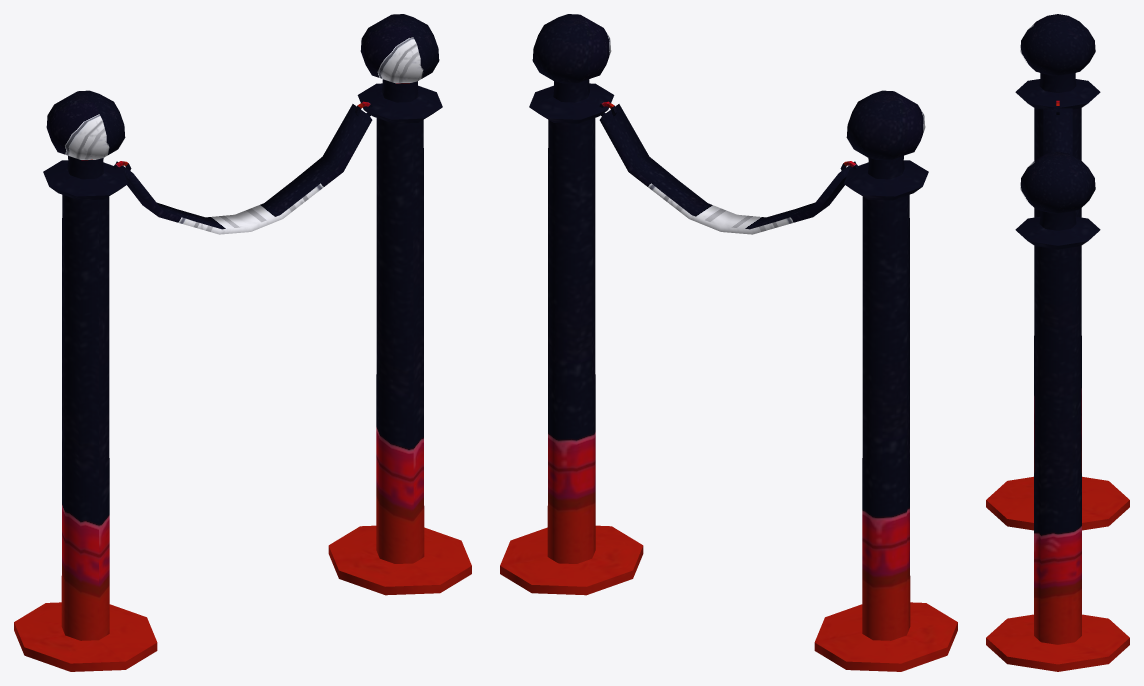
File: Fita.fbx
3 renders of one model, left to right at view 1: azimuth 30°, elevation 25°; view 2: azimuth 150°, elevation 25°; view 3: azimuth 270°, elevation 25°, orthographic. The views are drawn at different scales.
Visible parts, largest first — view 1: FitaCinema; view 2: FitaCinema; view 3: FitaCinema.
Boxes of the visible parts, left/top/right/bottom form: FitaCinema: left=14, top=14, right=471, bottom=671; FitaCinema: left=500, top=14, right=957, bottom=671; FitaCinema: left=986, top=14, right=1129, bottom=671.
Bounding box in the file's own units: 50.43 × 60.04 × 16.
